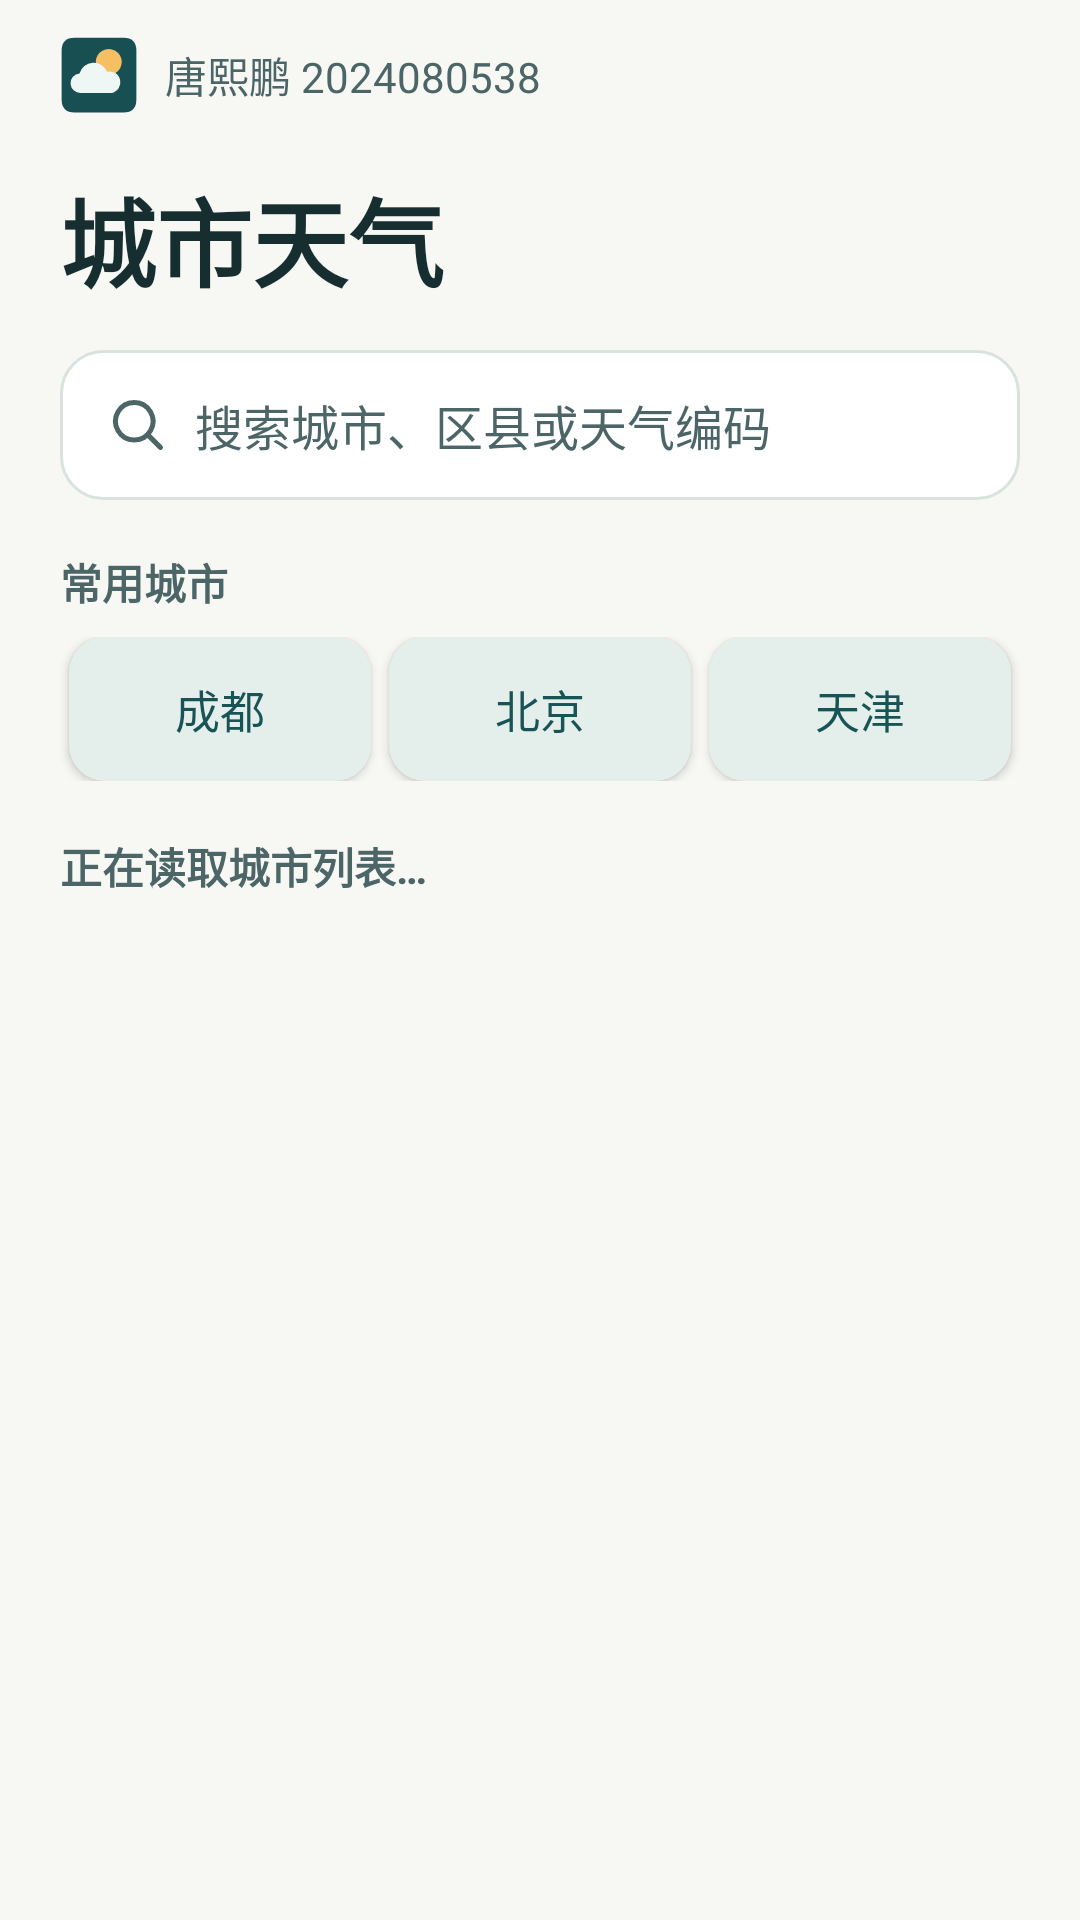

Icon click points for this 1080 x 1920 phone screenshot, format (x,y):
weather: (99,75)
